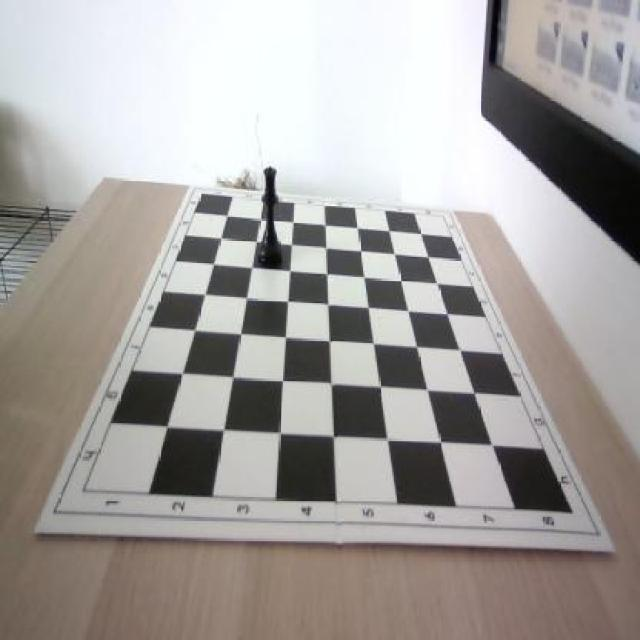black-pawn: (257, 166, 285, 268)
